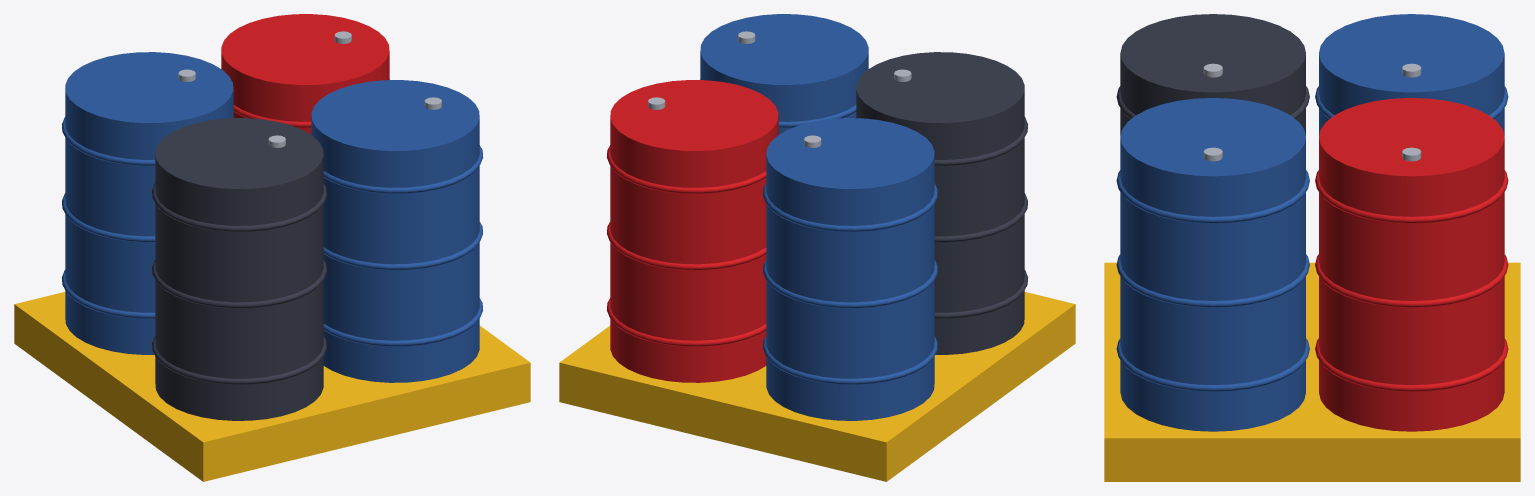
File: air-010.glb
The picture shows the model from 3 angles, left to right: view 1: azimuth 30°, elevation 25°; view 2: azimuth 150°, elevation 25°; view 3: azimuth 270°, elevation 25°; orthographic projection. The views are drawn at different scales.
Visible parts, largest first — view 1: drum_blue, dark_steel, safety_yellow, accent_red, steel; view 2: drum_blue, accent_red, dark_steel, safety_yellow, steel; view 3: drum_blue, accent_red, safety_yellow, dark_steel, steel.
Boxes of the visible parts, left/top/right/bottom form: drum_blue: left=61, top=52, right=483, bottom=382; dark_steel: left=152, top=118, right=326, bottom=420; safety_yellow: left=14, top=292, right=530, bottom=481; accent_red: left=221, top=14, right=389, bottom=134; steel: left=178, top=31, right=441, bottom=147; drum_blue: left=700, top=14, right=937, bottom=420; accent_red: left=606, top=80, right=778, bottom=382; dark_steel: left=856, top=52, right=1028, bottom=354; safety_yellow: left=559, top=292, right=1075, bottom=481; steel: left=648, top=31, right=911, bottom=147; drum_blue: left=1116, top=14, right=1508, bottom=431; accent_red: left=1315, top=98, right=1508, bottom=431; safety_yellow: left=1104, top=262, right=1520, bottom=481; dark_steel: left=1116, top=14, right=1309, bottom=273; steel: left=1203, top=63, right=1421, bottom=161.
Size of the model in its own units: 1.3 by 1.05 by 1.3.
